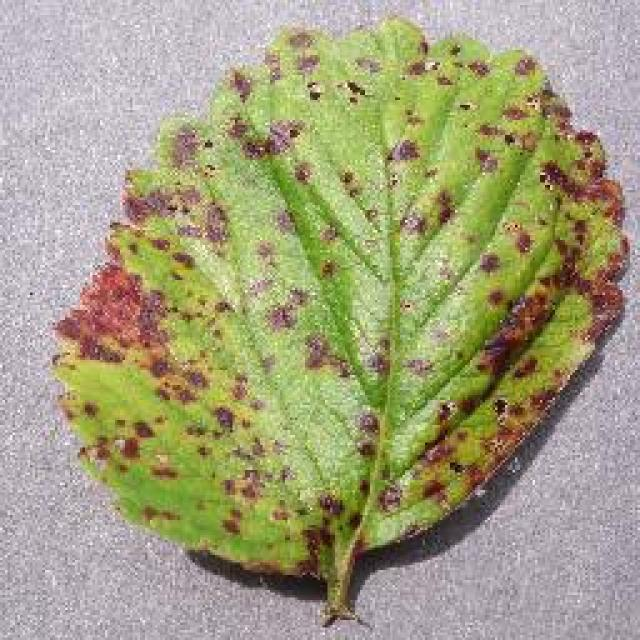Strawberry leaf scorch: (53, 8, 585, 527)
